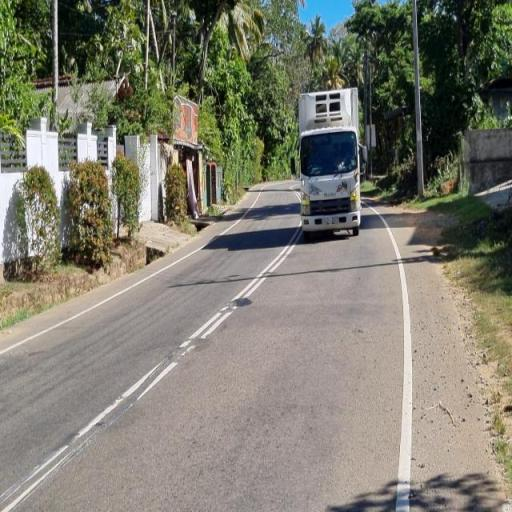double_white_line: (176, 230, 302, 357)
